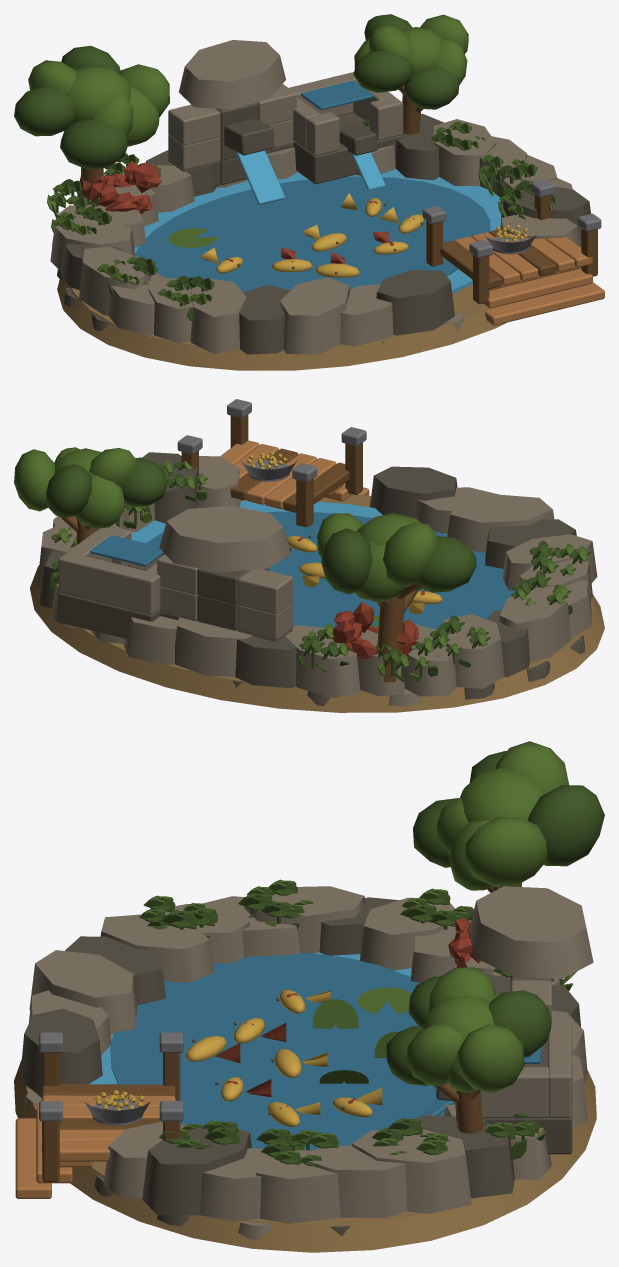
Rendered from goldfish-pond.glb.
3 views of the same model, one above another, from view 1: azimuth 30°, elevation 25°; view 2: azimuth 150°, elevation 25°; view 3: azimuth 270°, elevation 25° (orthographic). The views are drawn at different scales.
Visible parts, largest first — view 1: goldfish-pond-farm-stone, goldfish-pond-farm-water-deep, goldfish-pond-farm-stone-dark, goldfish-pond-farm-leaf-dark, goldfish-pond-farm-leaf, goldfish-pond-farm-dirt, goldfish-pond-farm-wood-light, goldfish-pond-farm-water, goldfish-pond-farm-wood-shadow, goldfish-pond-farm-gold, goldfish-pond-farm-barn-red, goldfish-pond-farm-metal; view 2: goldfish-pond-farm-stone, goldfish-pond-farm-stone-dark, goldfish-pond-farm-leaf, goldfish-pond-farm-leaf-dark, goldfish-pond-farm-dirt, goldfish-pond-farm-water-deep, goldfish-pond-farm-wood-shadow, goldfish-pond-farm-wood-light, goldfish-pond-farm-metal, goldfish-pond-farm-barn-red, goldfish-pond-farm-gold, goldfish-pond-farm-water; view 3: goldfish-pond-farm-stone, goldfish-pond-farm-water-deep, goldfish-pond-farm-leaf, goldfish-pond-farm-leaf-dark, goldfish-pond-farm-stone-dark, goldfish-pond-farm-dirt, goldfish-pond-farm-wood-shadow, goldfish-pond-farm-wood-light, goldfish-pond-farm-gold, goldfish-pond-farm-metal, goldfish-pond-farm-barn-red, goldfish-pond-farm-water.
Boxes of the visible parts, x1,y1,x2,y2 form: goldfish-pond-farm-stone: [50, 40, 580, 354]; goldfish-pond-farm-water-deep: [134, 80, 490, 292]; goldfish-pond-farm-stone-dark: [57, 102, 590, 354]; goldfish-pond-farm-leaf-dark: [14, 14, 553, 321]; goldfish-pond-farm-leaf: [28, 14, 556, 304]; goldfish-pond-farm-dirt: [57, 247, 581, 370]; goldfish-pond-farm-wood-light: [454, 232, 604, 325]; goldfish-pond-farm-water: [134, 150, 501, 293]; goldfish-pond-farm-wood-shadow: [69, 85, 597, 304]; goldfish-pond-farm-gold: [200, 193, 528, 277]; goldfish-pond-farm-barn-red: [80, 161, 414, 263]; goldfish-pond-farm-metal: [422, 179, 601, 258]; goldfish-pond-farm-stone: [37, 456, 597, 706]; goldfish-pond-farm-stone-dark: [39, 452, 585, 705]; goldfish-pond-farm-leaf: [14, 447, 588, 681]; goldfish-pond-farm-leaf-dark: [46, 457, 591, 681]; goldfish-pond-farm-dirt: [30, 494, 604, 712]; goldfish-pond-farm-water-deep: [90, 511, 516, 629]; goldfish-pond-farm-wood-shadow: [60, 415, 420, 682]; goldfish-pond-farm-wood-light: [220, 440, 369, 509]; goldfish-pond-farm-metal: [177, 399, 366, 482]; goldfish-pond-farm-barn-red: [285, 537, 425, 658]; goldfish-pond-farm-gold: [247, 451, 442, 614]; goldfish-pond-farm-water: [131, 500, 447, 543]; goldfish-pond-farm-stone: [24, 886, 593, 1239]; goldfish-pond-farm-water-deep: [110, 953, 540, 1150]; goldfish-pond-farm-leaf: [139, 741, 576, 1163]; goldfish-pond-farm-leaf-dark: [145, 751, 604, 1166]; goldfish-pond-farm-stone-dark: [20, 897, 580, 1236]; goldfish-pond-farm-dirt: [14, 1059, 596, 1252]; goldfish-pond-farm-wood-shadow: [41, 883, 521, 1181]; goldfish-pond-farm-wood-light: [15, 1095, 175, 1198]; goldfish-pond-farm-gold: [95, 989, 382, 1127]; goldfish-pond-farm-metal: [39, 1032, 183, 1125]; goldfish-pond-farm-barn-red: [215, 917, 481, 1108]; goldfish-pond-farm-water: [89, 952, 454, 1118].
Bounding box in the file's own units: 8.41 × 3.08 × 6.85.
